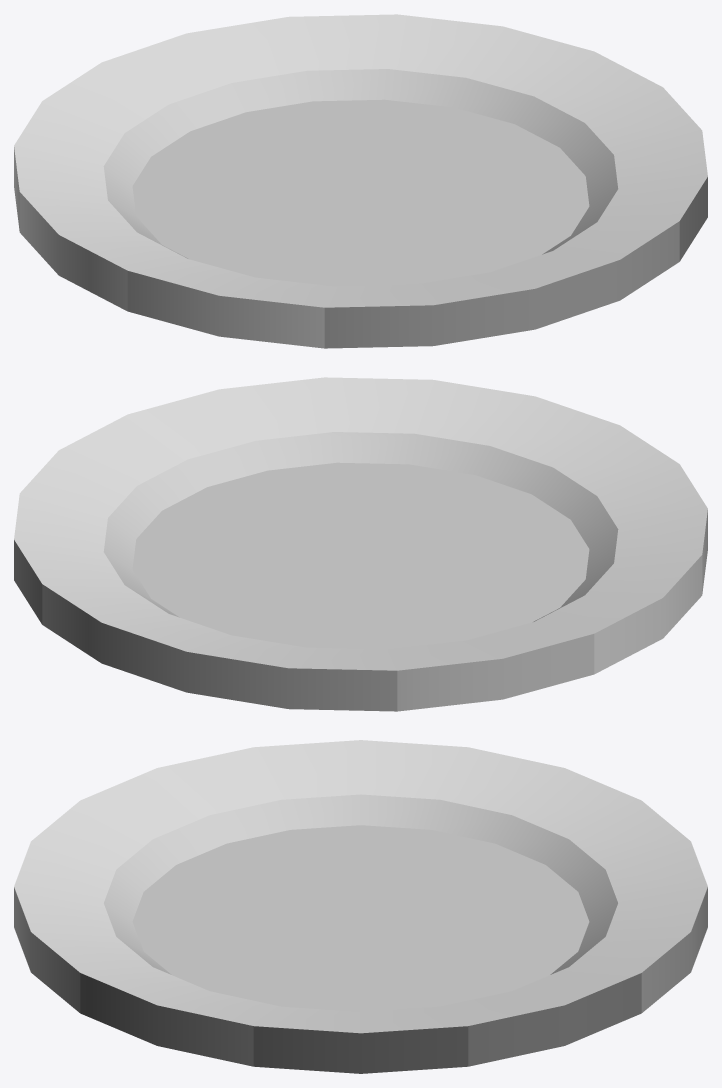
File: plate.fbx
The picture shows the model from 3 angles, top to bottom: view 1: azimuth 30°, elevation 25°; view 2: azimuth 150°, elevation 25°; view 3: azimuth 270°, elevation 25°; orthographic projection.
Parts seen in each view (by area): view 1: pCylinder1; view 2: pCylinder1; view 3: pCylinder1.
Part boxes in pixels (x1,y1,x2,y2): pCylinder1: (14,14,707,348); pCylinder1: (14,377,707,711); pCylinder1: (14,740,707,1073).
Size of the model in its own units: 9.67 by 0.9714 by 9.67.
1 material, 1 textured.
